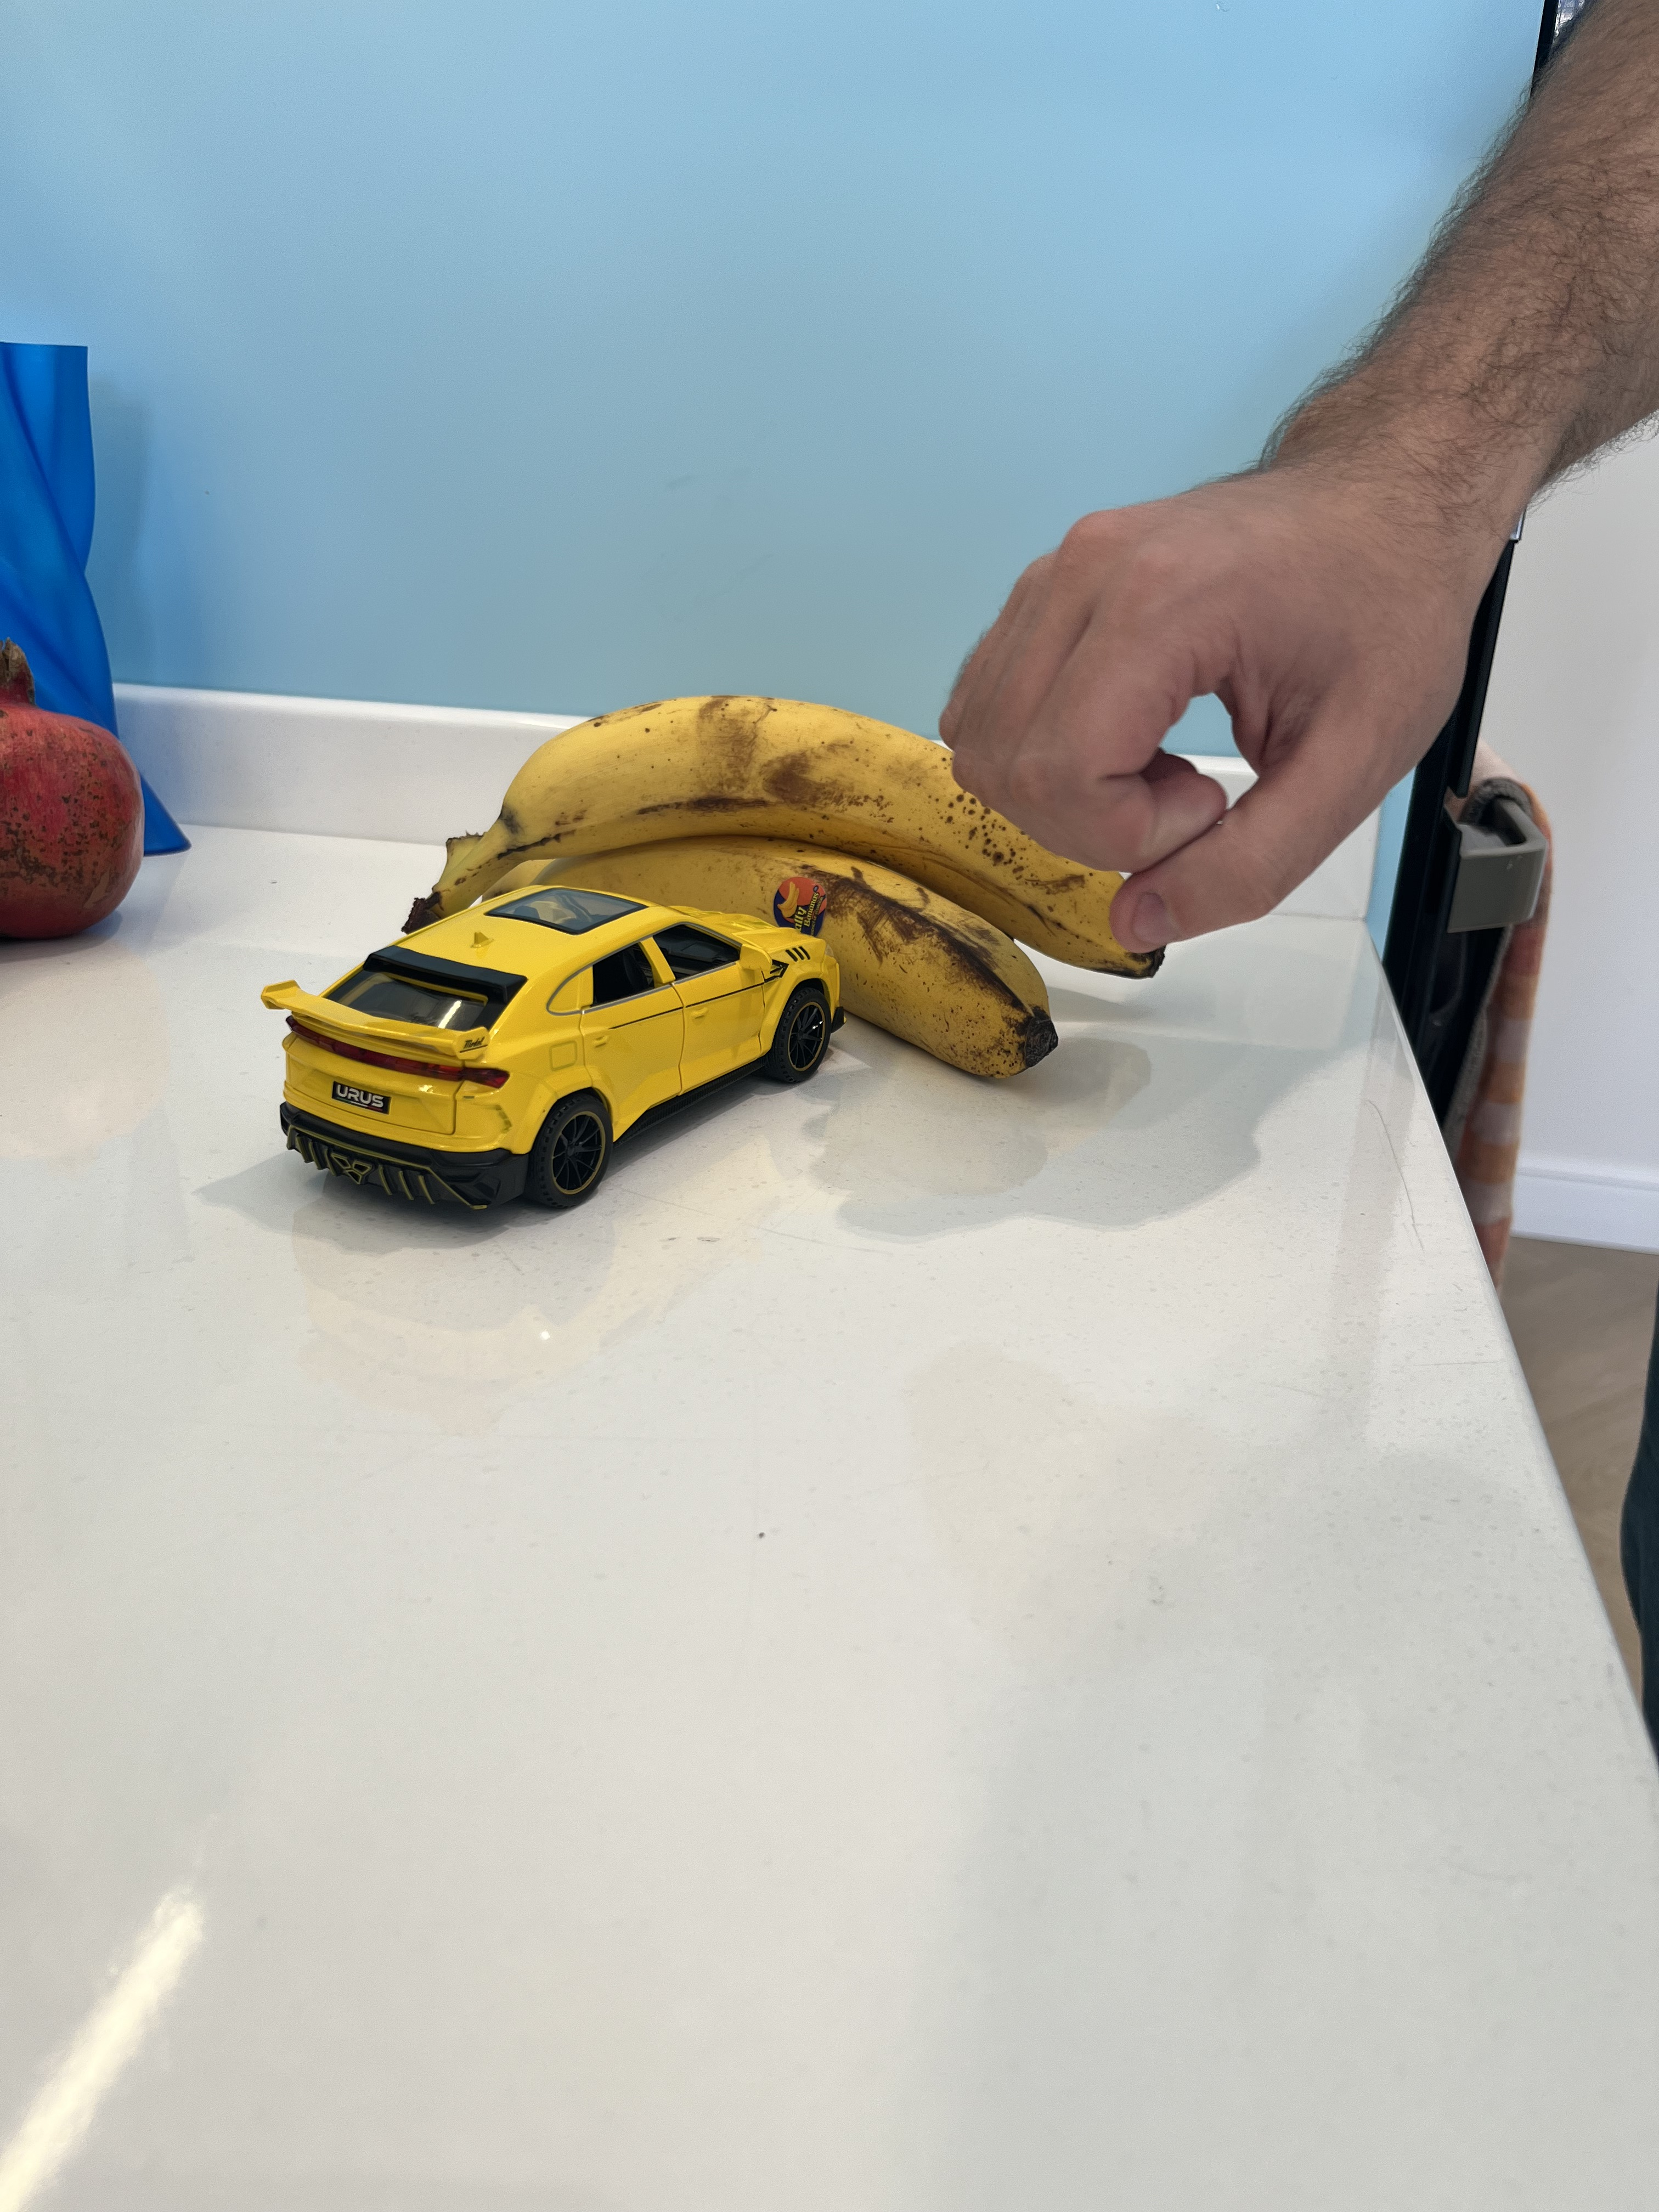lambo: (230, 862, 833, 1207)
